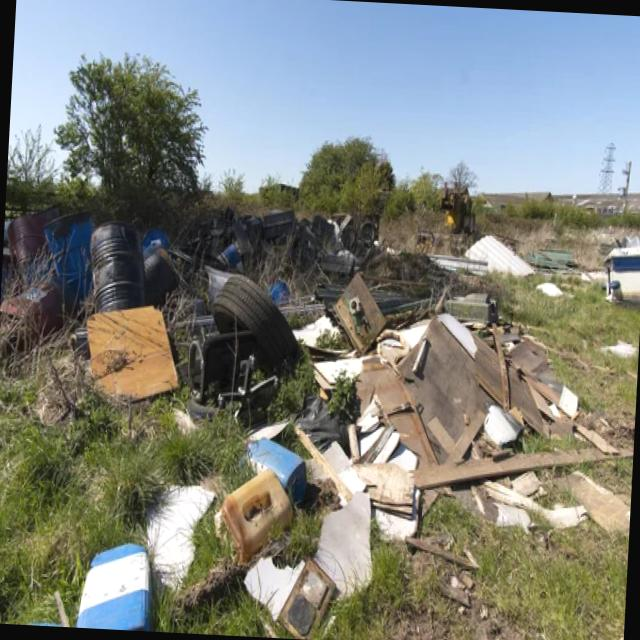garbage: (61, 194, 573, 640)
